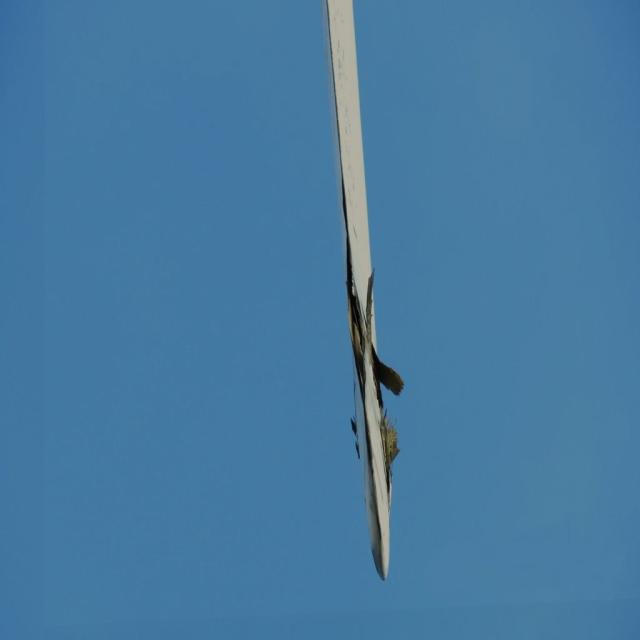crack: (342, 260, 409, 484)
